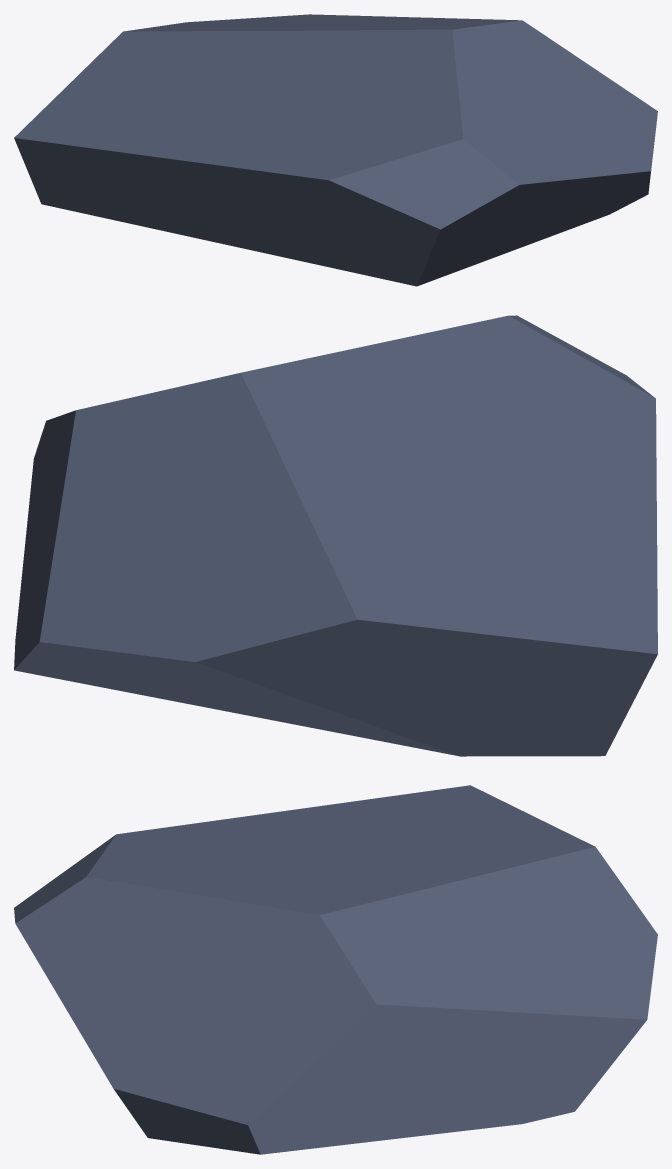
Rendered from roca pequeña.fbx.
The picture shows the model from 3 angles, top to bottom: view 1: azimuth 30°, elevation 25°; view 2: azimuth 150°, elevation 25°; view 3: azimuth 270°, elevation 25°; orthographic projection. The views are drawn at different scales.
Parts seen in each view (by area): view 1: rock.001; view 2: rock.001; view 3: rock.001.
Boxes of the visible parts, bbox=[...] form: rock.001: bbox=[14, 14, 657, 286]; rock.001: bbox=[14, 315, 657, 756]; rock.001: bbox=[14, 785, 657, 1154].
Size of the model in its own units: 68.38 by 17.63 by 61.44.
